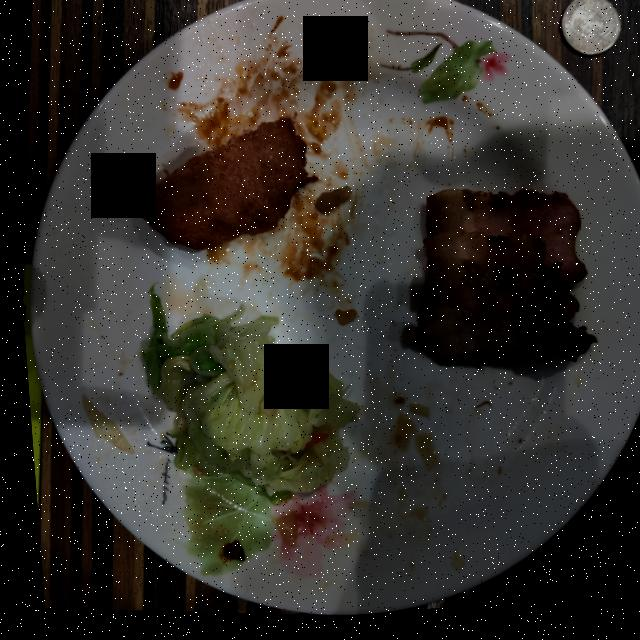Spam: (130, 121, 313, 252)
cabbage: (136, 293, 351, 507)
coin: (560, 4, 619, 64)
red grilled pork: (411, 195, 590, 371)
